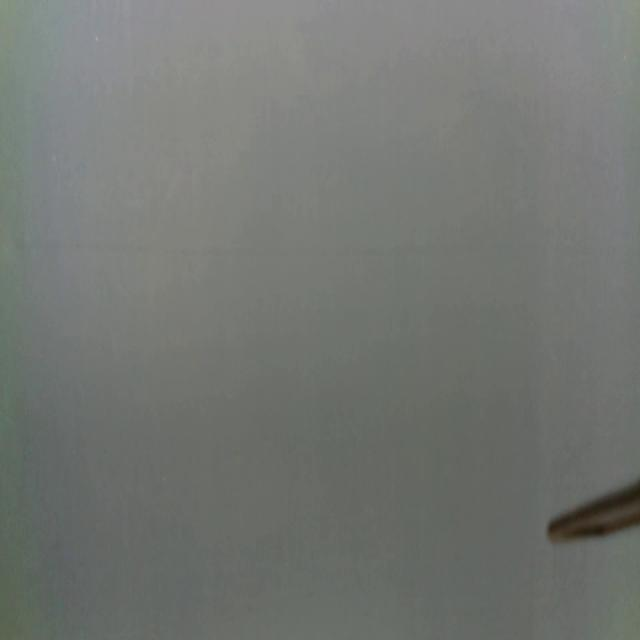color bleeding: (0, 232, 640, 268)
